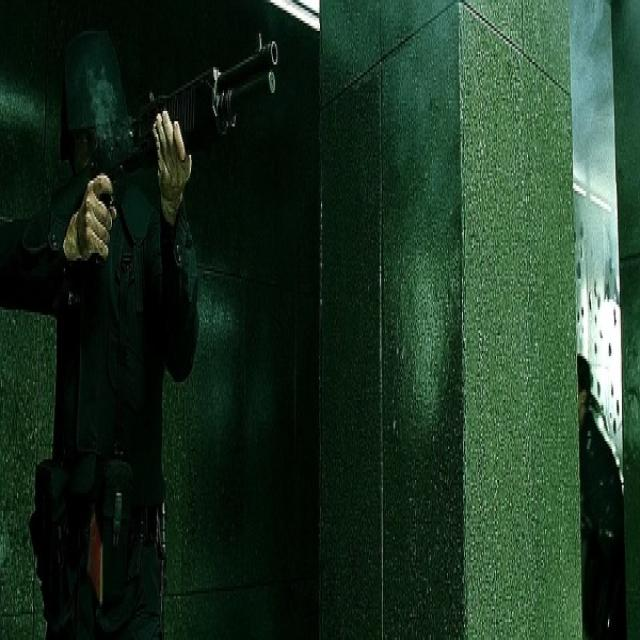rifle: (67, 34, 282, 214)
